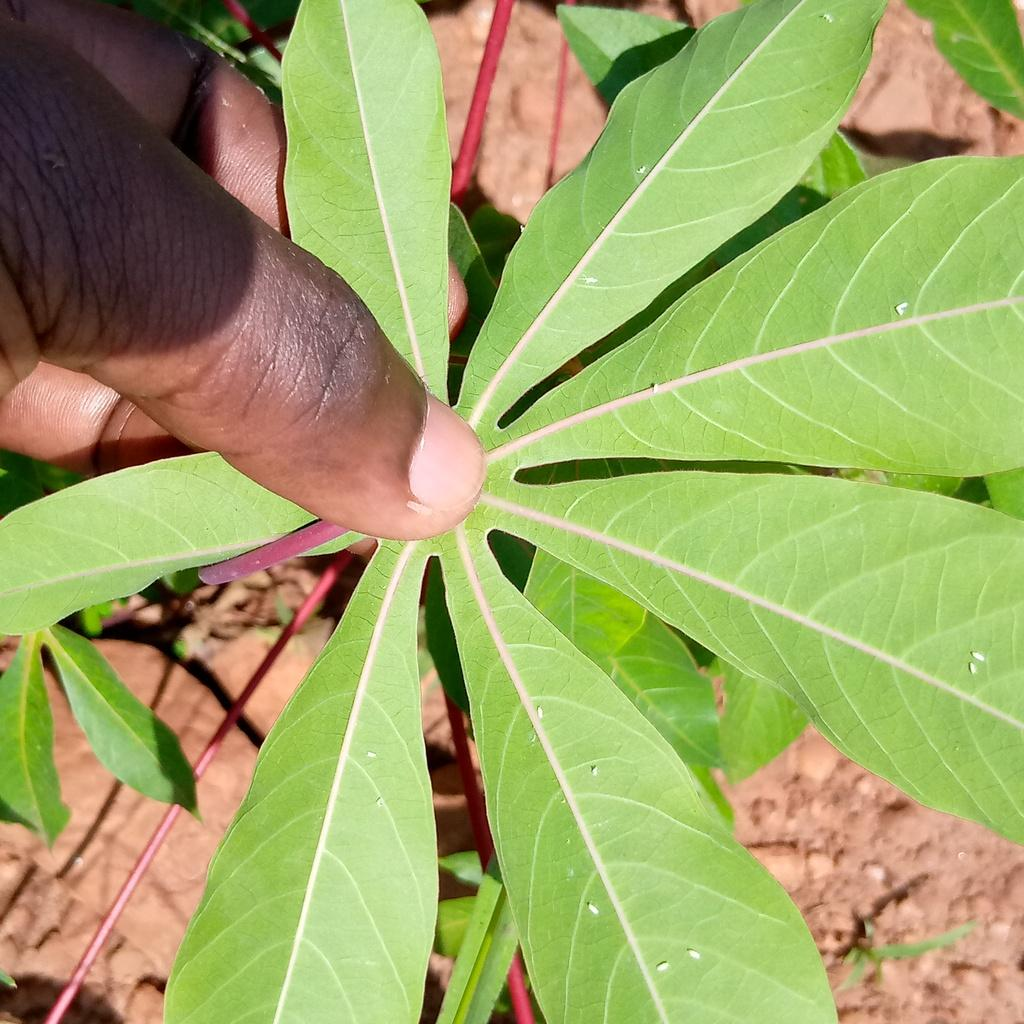adult: (894, 302, 908, 316), (970, 651, 985, 663), (579, 275, 597, 285), (687, 948, 701, 960), (587, 902, 599, 915), (968, 662, 978, 674), (657, 962, 669, 971), (590, 765, 599, 775), (366, 751, 377, 759), (537, 706, 544, 718), (637, 166, 646, 175), (376, 797, 384, 807), (653, 384, 658, 394)
